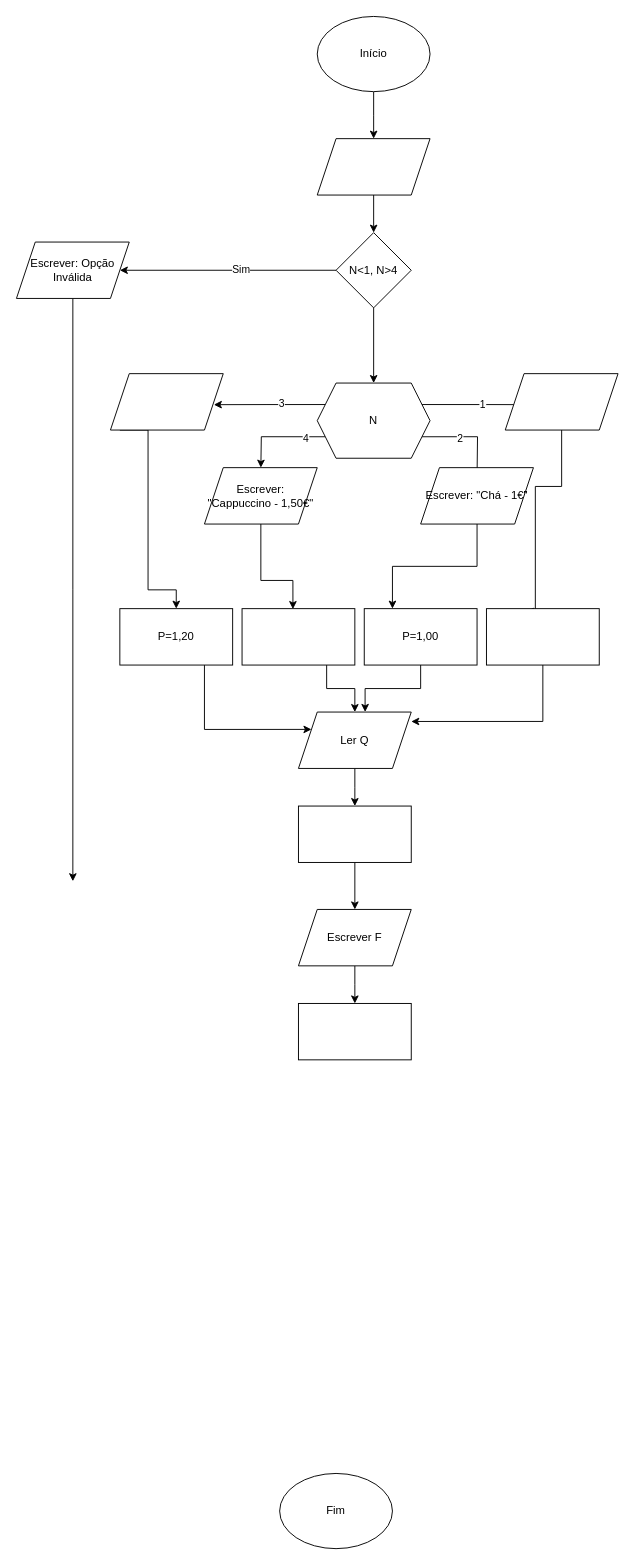
This 635x1565 diagram has some shape labels left out. Each missing label, with the centre of its shape:
Escrever: "Café - 0,80€": (561,401)
Escrever: "Chocolate Quente - 1,20€": (166,401)
Ler N, Q, D: (373,166)
P*Q=F: (354,833)
P=0,80: (542,636)
P=1,50: (298,636)
